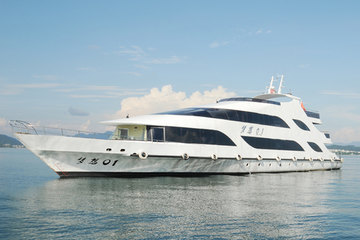yacht: (9, 69, 346, 182)
